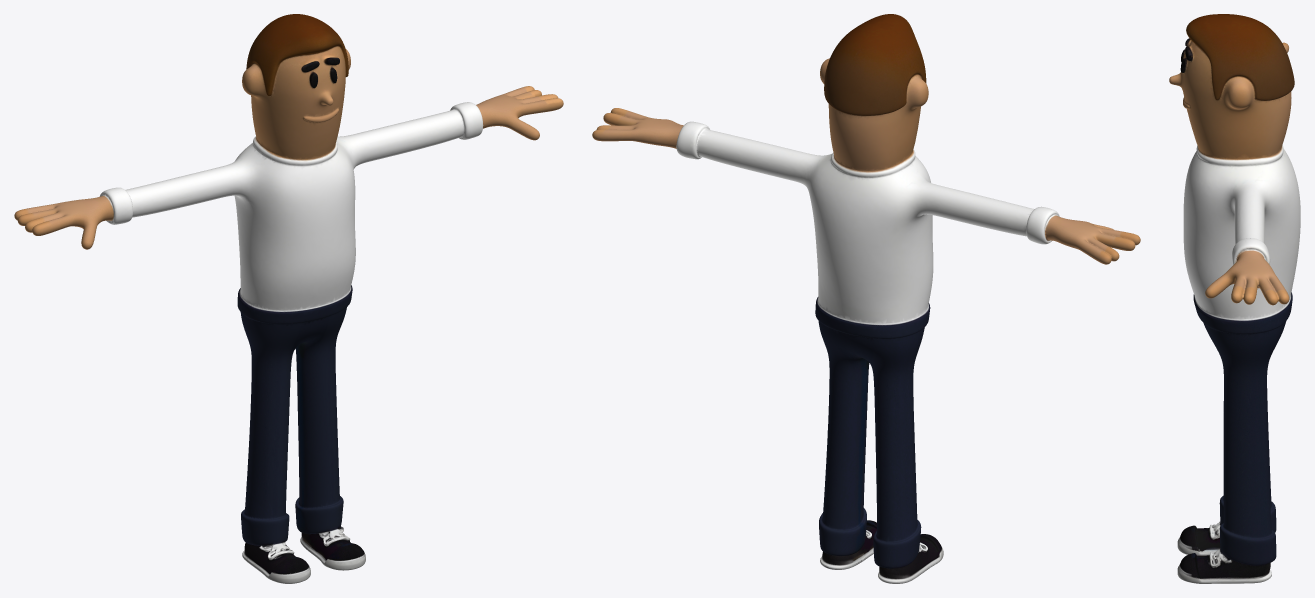
File: beyaz_karakter.fbx
The picture shows the model from 3 angles, left to right: view 1: azimuth 30°, elevation 25°; view 2: azimuth 150°, elevation 25°; view 3: azimuth 270°, elevation 25°; orthographic projection.
Visible parts, largest first — view 1: Mesh_0; view 2: Mesh_0; view 3: Mesh_0.
Part boxes in pixels (x1,y1,x2,y2): Mesh_0: (14, 14, 563, 583); Mesh_0: (592, 14, 1140, 583); Mesh_0: (1169, 14, 1300, 583).
Size of the model in its own units: 200 by 194 by 42.4.
Materials: 1 (1 with a texture image).
